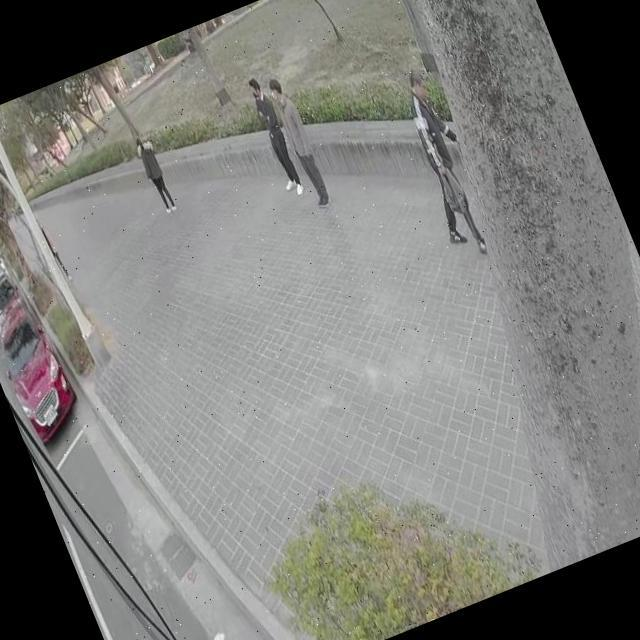person: (387, 61, 501, 260), (265, 73, 334, 208), (243, 74, 308, 201), (132, 130, 178, 216), (36, 215, 72, 283)
